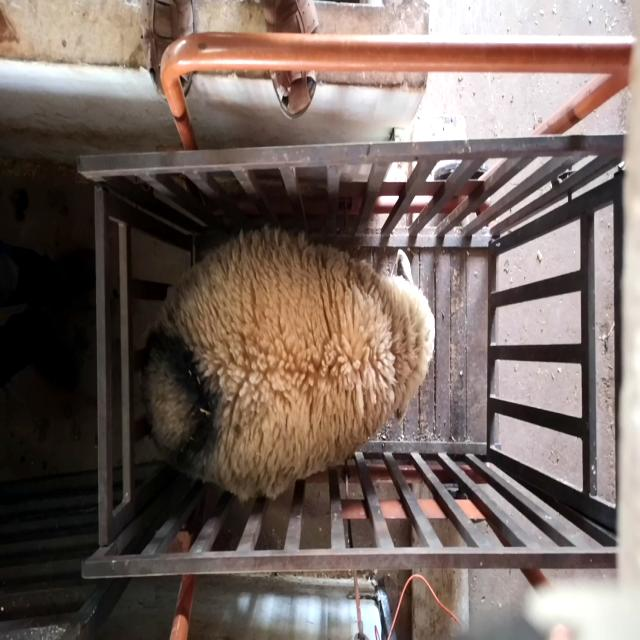sheep: (140, 229, 436, 503)
